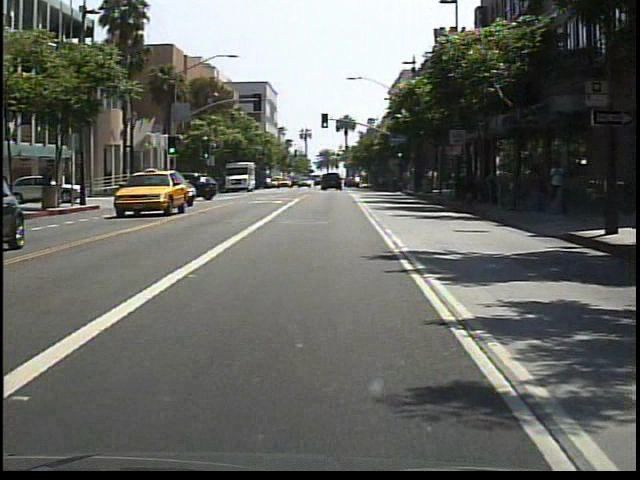person: (543, 157, 567, 225)
